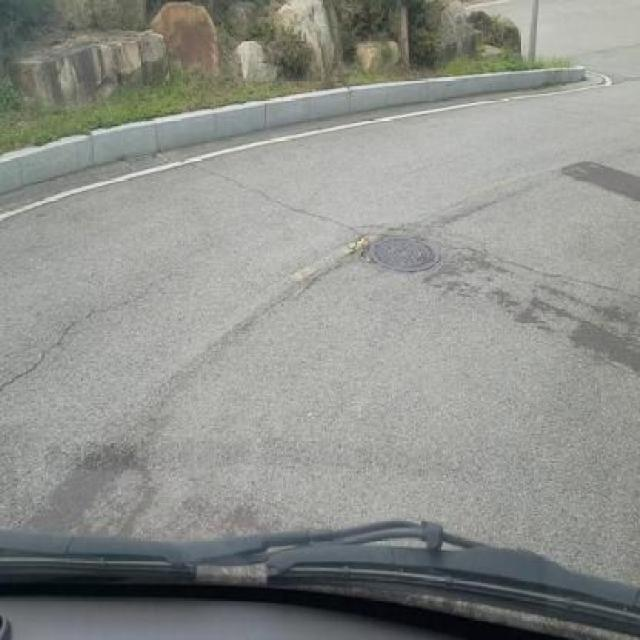Manhole: (360, 236, 440, 273)
